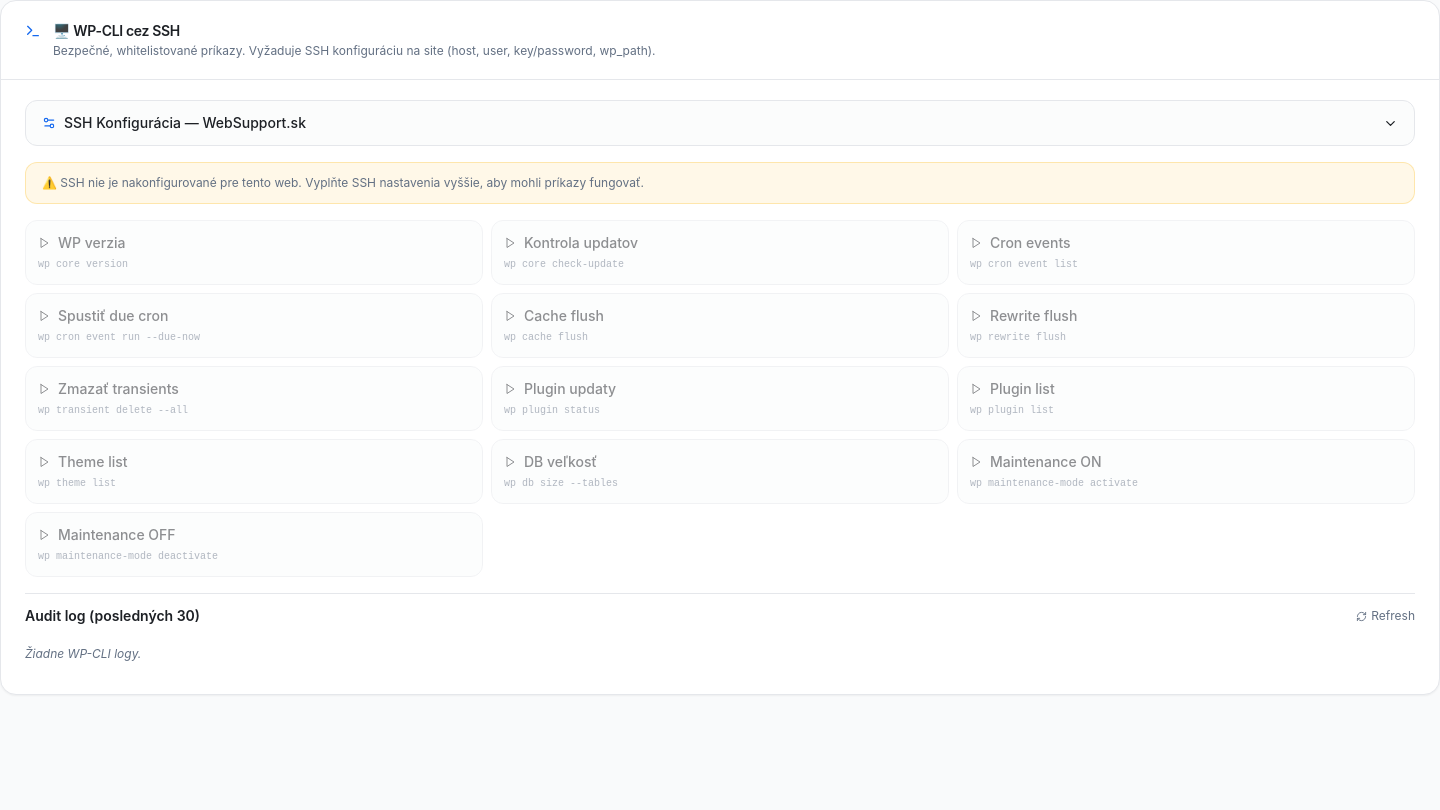
it: WPCLIManager – SSH form fields › switches to private key on button click
Click the button "SSH Konfigurácia — WebSupport.sk". click: (185, 122)
box: [26,101,1414,145]
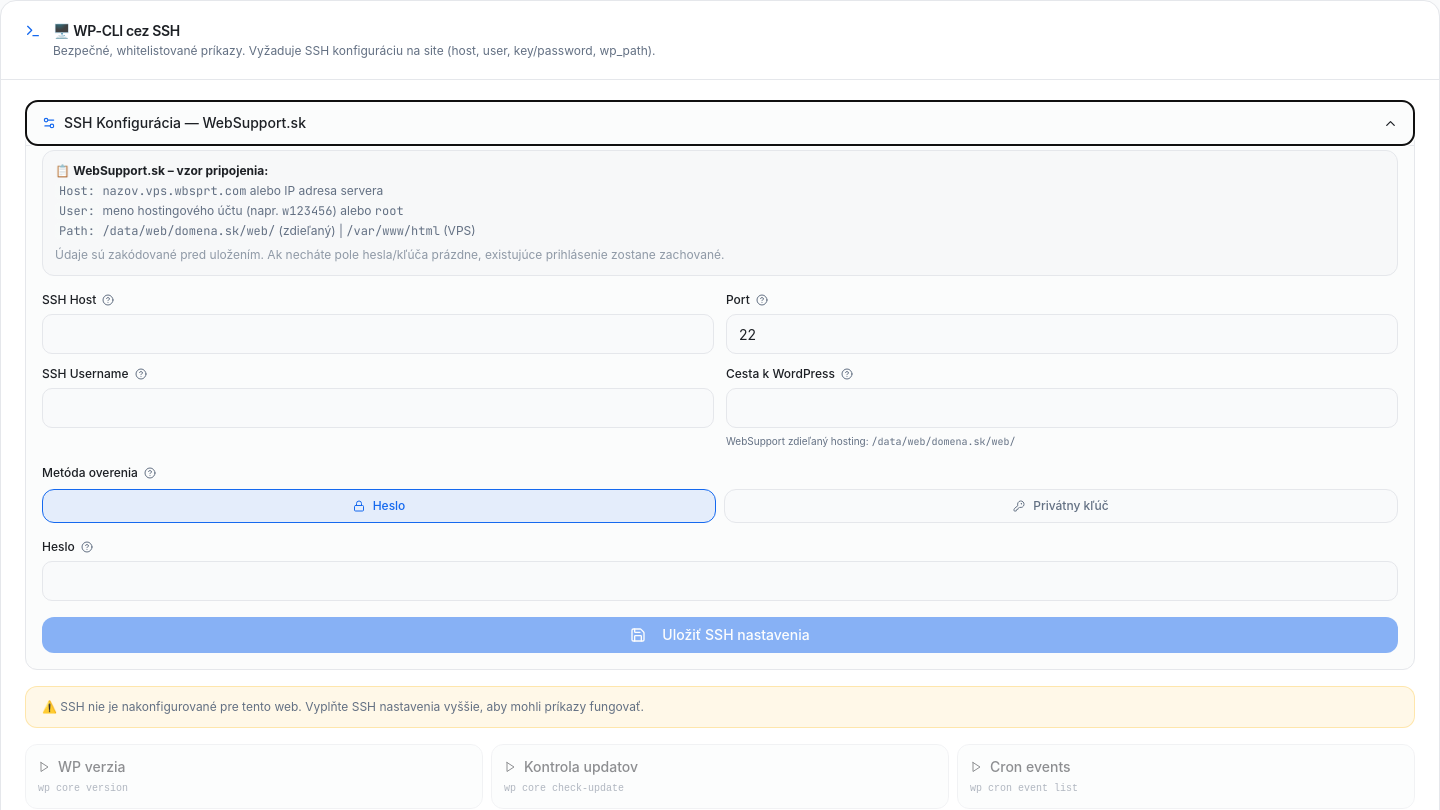
Click the button "Privátny kľúč". click: (1061, 506)
box: [724,489,1398,523]
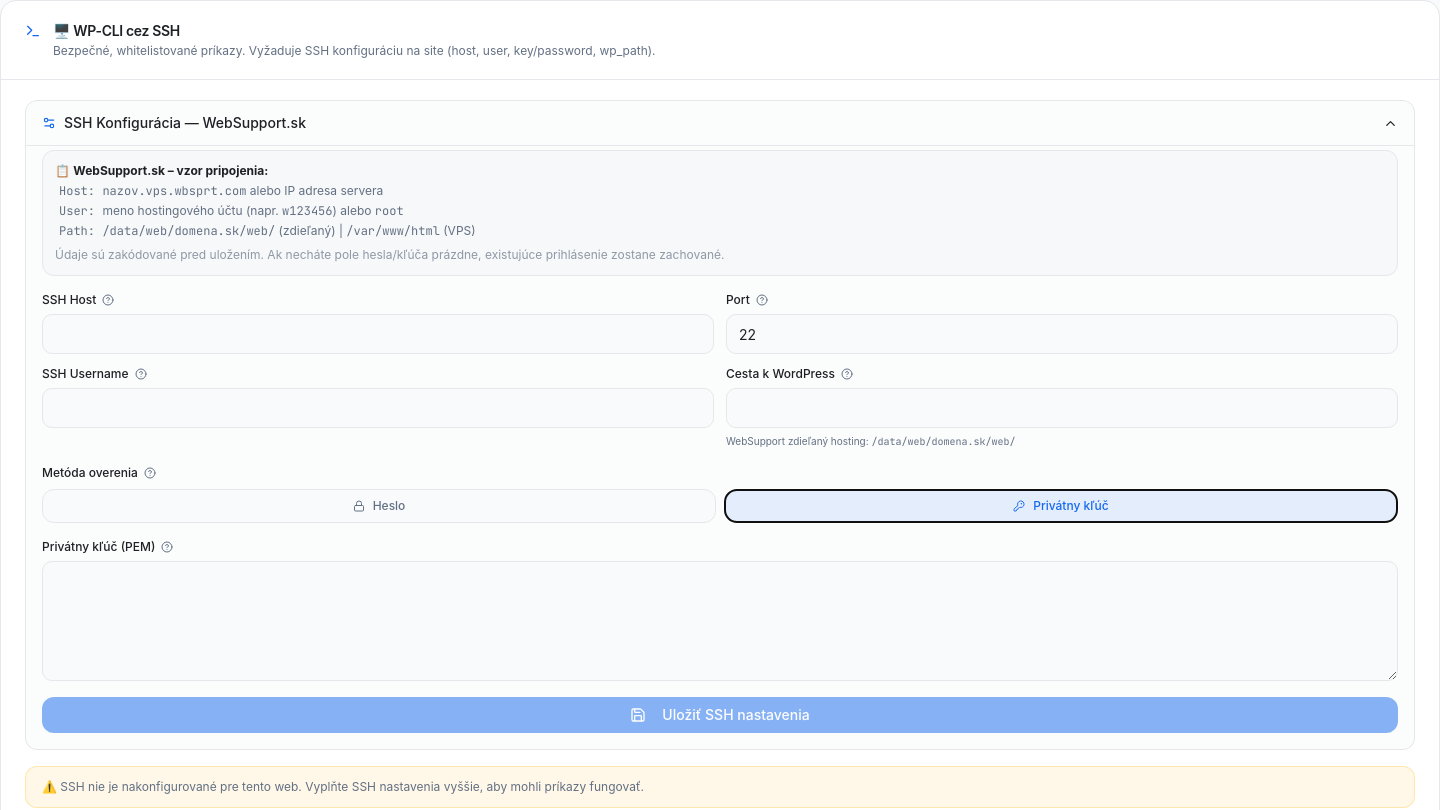
Expected: the text box labelled "Privátny kľúč (PEM)" is shown, [42,561,1398,681]
